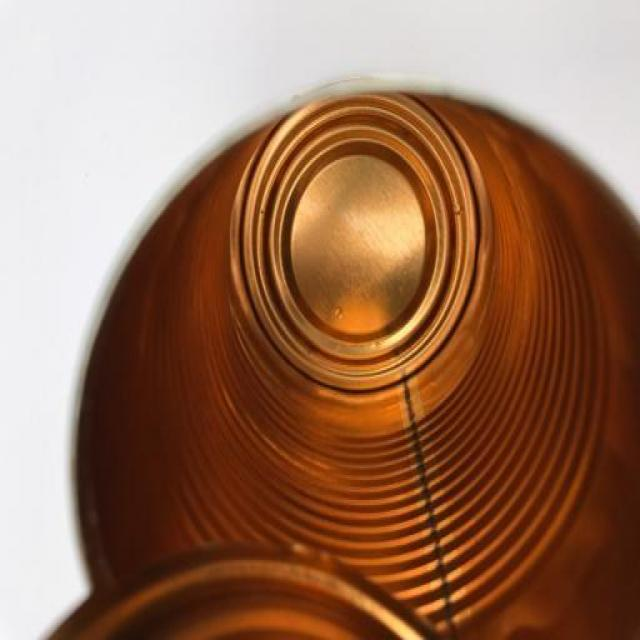metel: (67, 64, 640, 640)
